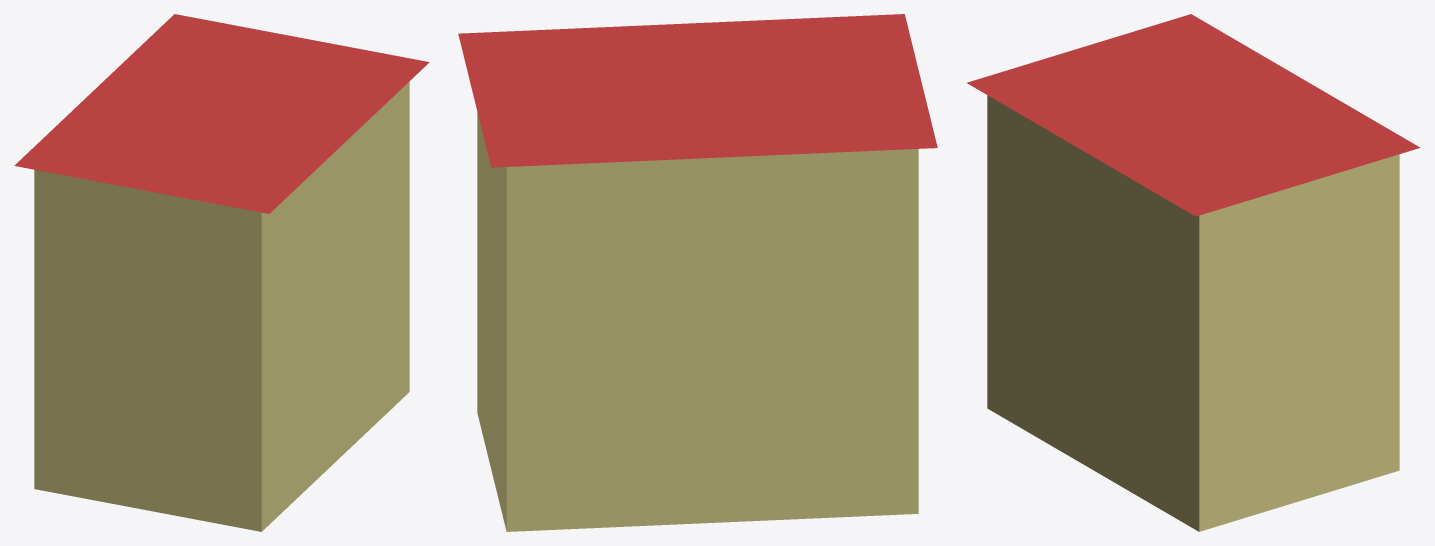
3 renders of one model, left to right at view 1: azimuth 30°, elevation 25°; view 2: azimuth 150°, elevation 25°; view 3: azimuth 270°, elevation 25°, orthographic. The views are drawn at different scales.
Size of the model in its own units: 7.94 by 7.52 by 5.92.
